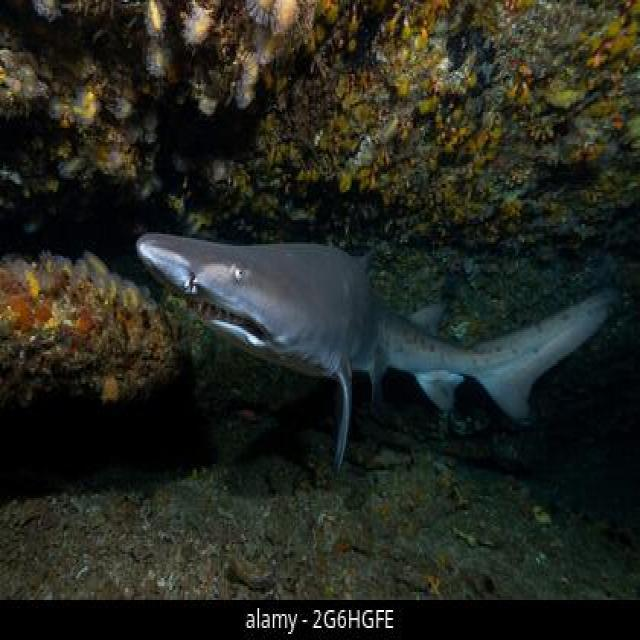Shark: (110, 150, 631, 466)
